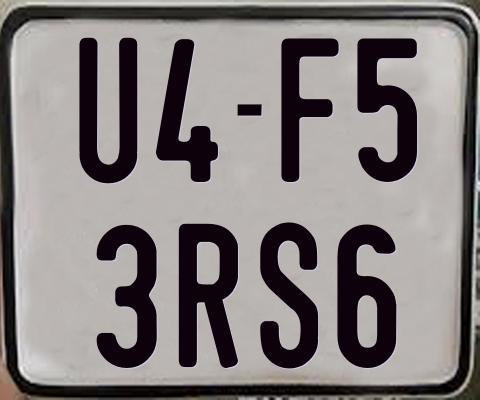3: (96, 225, 163, 373)
4: (154, 36, 217, 180)
5: (357, 38, 419, 184)
6: (337, 222, 397, 367)
F: (279, 35, 338, 182)
R: (177, 221, 236, 369)
S: (257, 221, 321, 369)
U: (79, 38, 141, 189)
